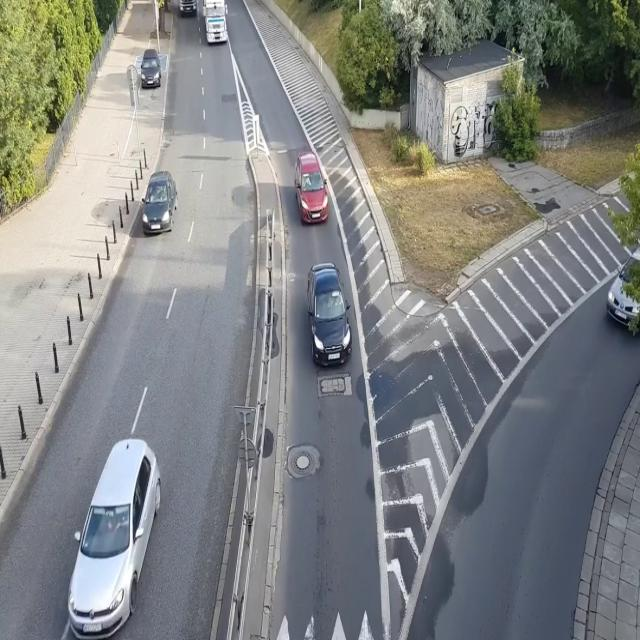car: (66, 437, 162, 640), (307, 263, 353, 368), (606, 234, 640, 334), (295, 149, 330, 225), (142, 171, 178, 236), (140, 48, 162, 90)
truck: (198, 0, 228, 44), (174, 0, 197, 18)
